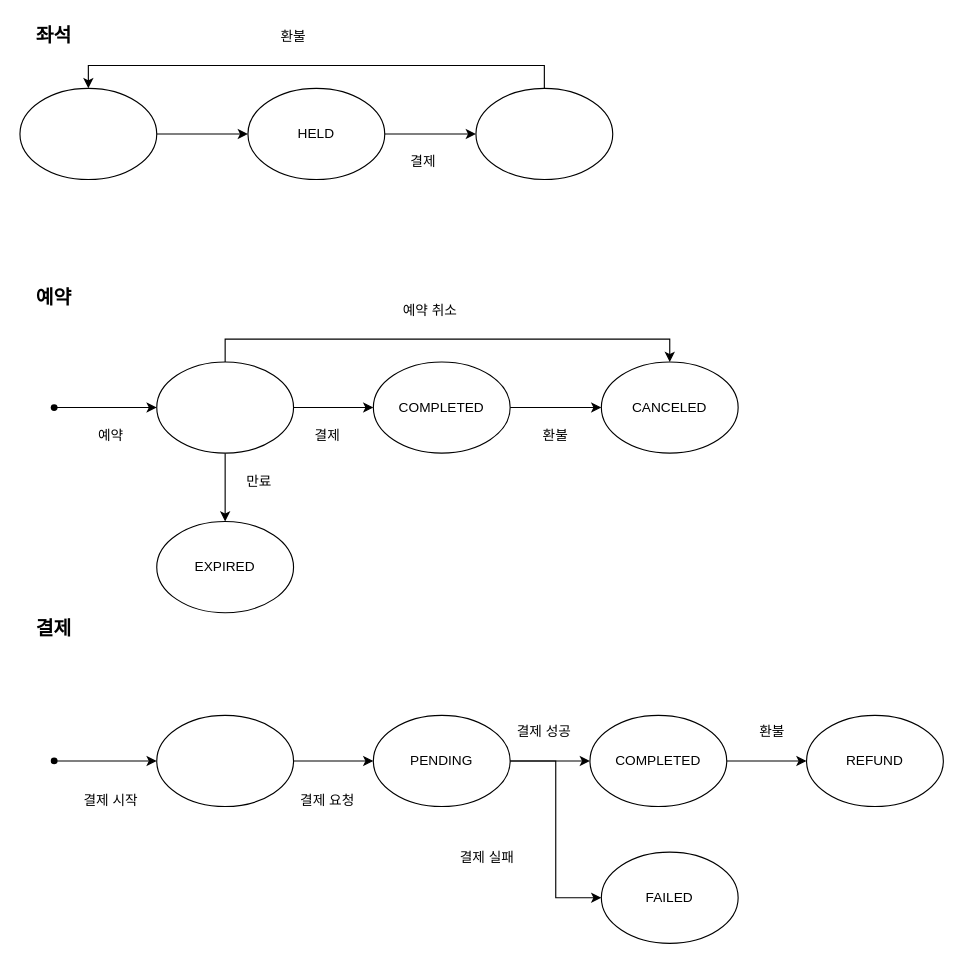
This 963x963 diagram has some shape labels left out. The centre of each missing label's shape, as x and y in pixels:
"AVAILABLE" belongs at (x=88, y=133).
"INIT" belongs at (x=225, y=760).
"SOLD" belongs at (x=544, y=133).
"WAITING_PAYMENT" belongs at (x=225, y=407).
